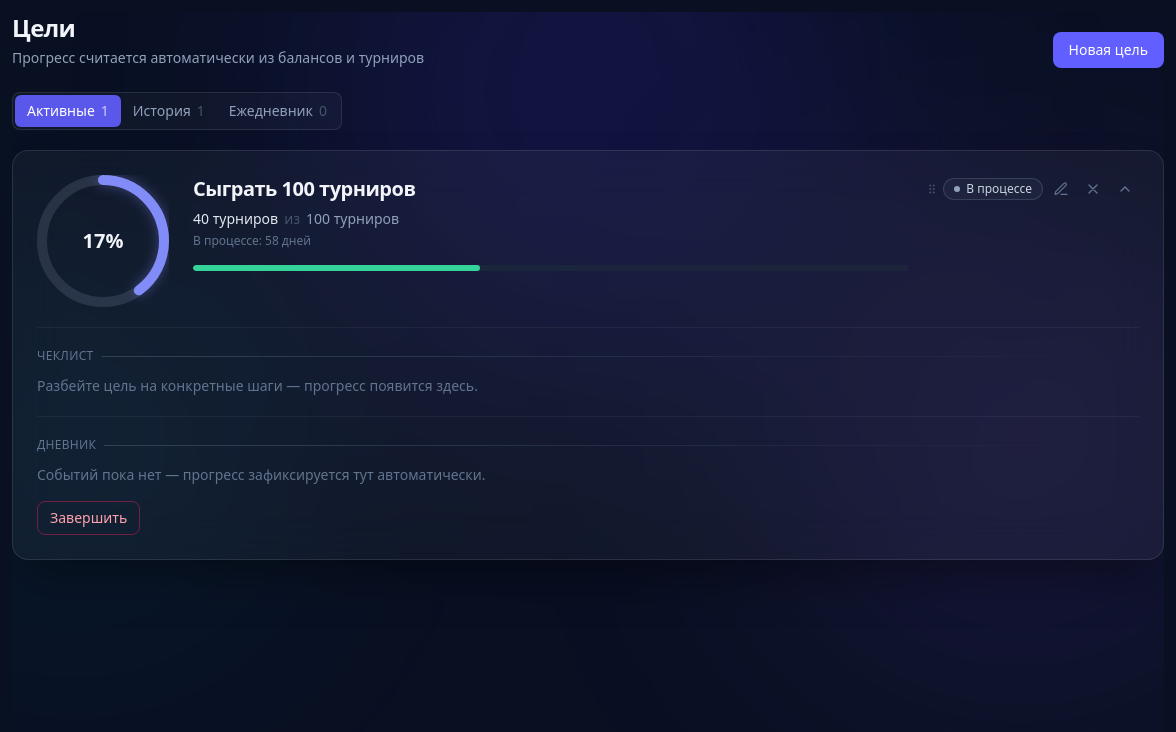
Test: GoalsPage history › separates active goals from the history tab
This screenshot has width=1176, height=732.
Expected: the tab "Активные1" is shown, [15, 95, 121, 127]
Expected: the heading "Сыграть 100 турниров" is shown, [193, 175, 416, 202]
Click the tab "История1": [169, 111] box [121, 95, 217, 127]
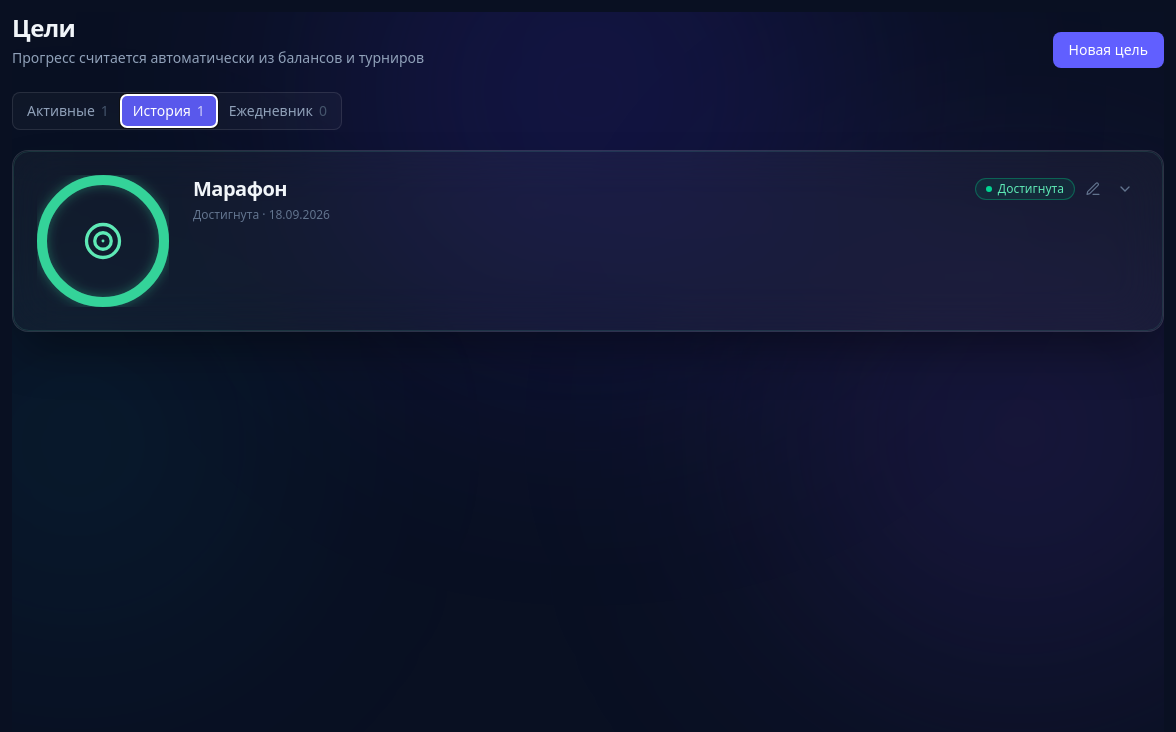
Now the heading "Марафон" is shown, box [193, 175, 287, 202]
Now the button "Сыграть 100 турниров" is gone
